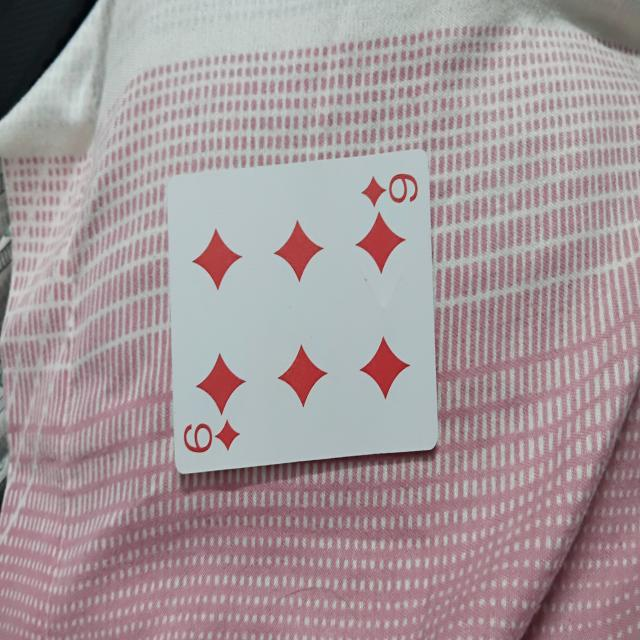6D: (166, 146, 434, 475)
